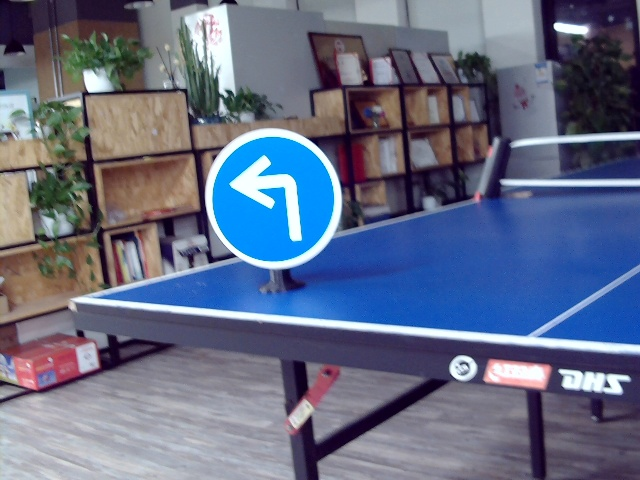turn_left: (227, 154, 305, 243)
